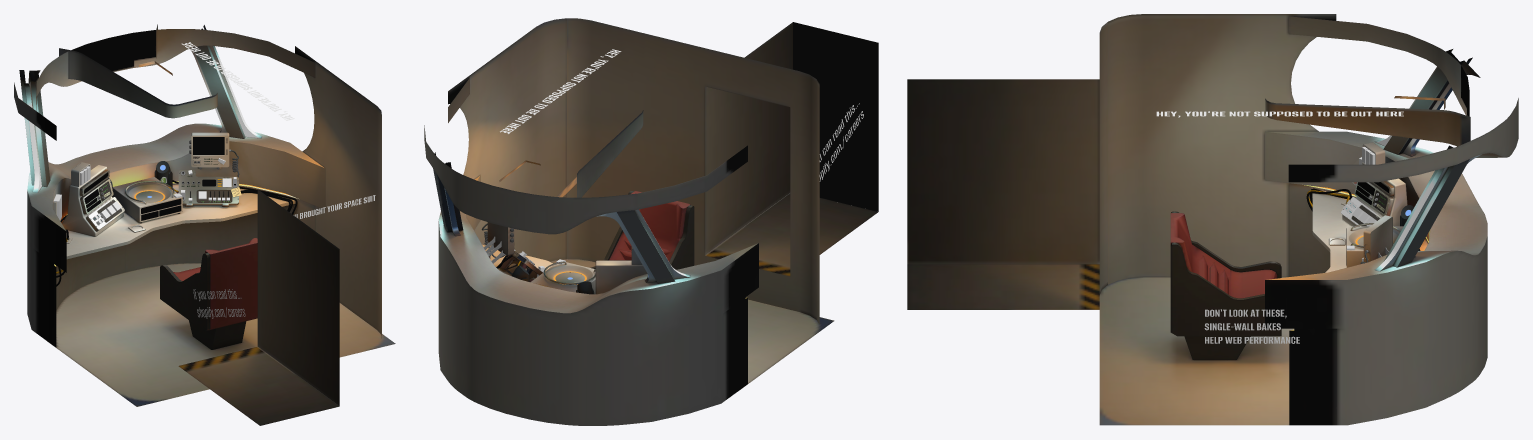
Rendered from room.glb.
3 views of the same model, side by side, from view 1: azimuth 30°, elevation 25°; view 2: azimuth 150°, elevation 25°; view 3: azimuth 270°, elevation 25° (orthographic). The views are drawn at different scales.
Visible parts, largest first — view 1: TBA matte, palette atlas, TBA PBR, black glass, monitor screen; view 2: TBA matte, void black, palette atlas, TBA PBR; view 3: TBA matte, palette atlas, TBA PBR.
Boxes of the visible parts, x1,y1,x2,y2 form: TBA matte: (14, 24, 395, 425); palette atlas: (56, 42, 375, 318); TBA PBR: (79, 169, 238, 232); black glass: (84, 172, 181, 220); monitor screen: (193, 137, 224, 154); TBA matte: (424, 18, 877, 425); void black: (793, 22, 878, 211); palette atlas: (481, 49, 863, 281); TBA PBR: (499, 251, 631, 284); TBA matte: (907, 14, 1518, 425); palette atlas: (1156, 111, 1403, 343); TBA PBR: (1329, 164, 1400, 247).
Size of the model in its own units: 3.33 by 2.8 by 5.8.
Materials: 25 (10 with a texture image).
